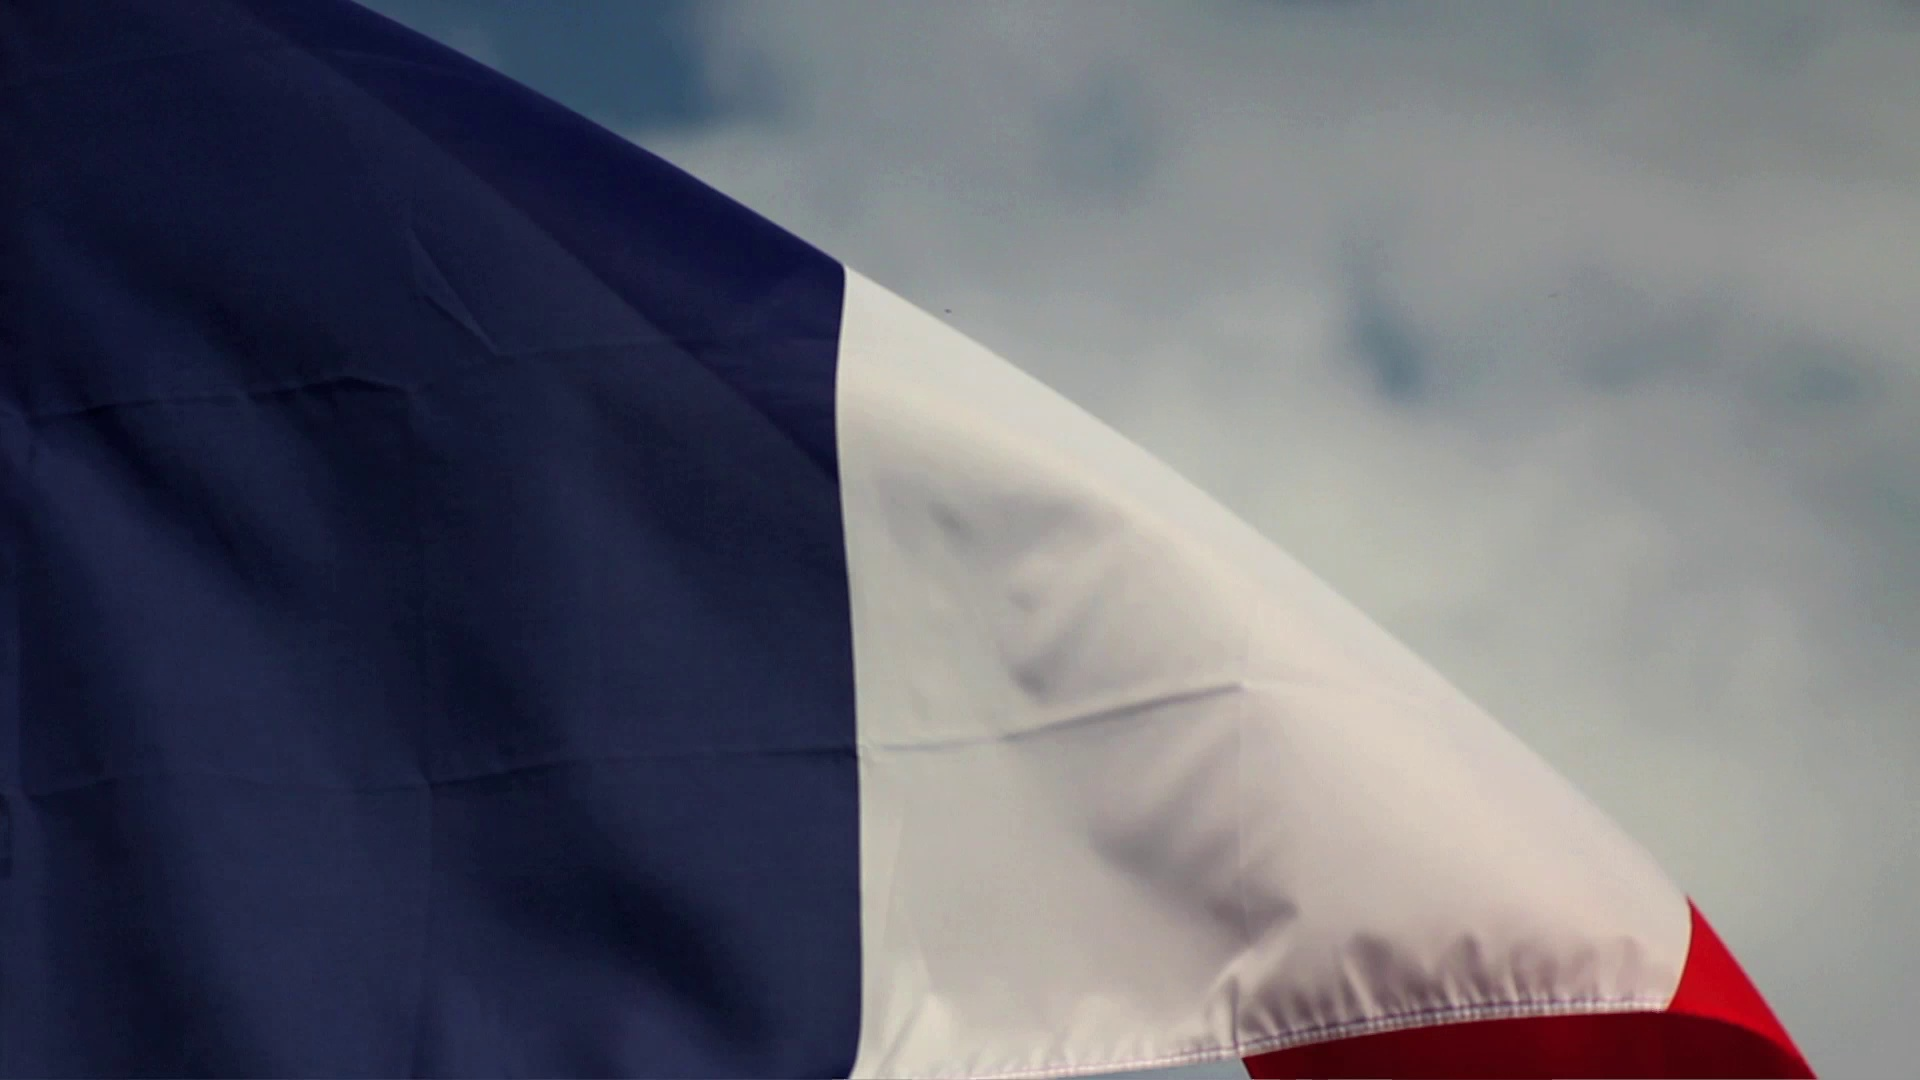French Flag: (1, 1, 1813, 1079)
